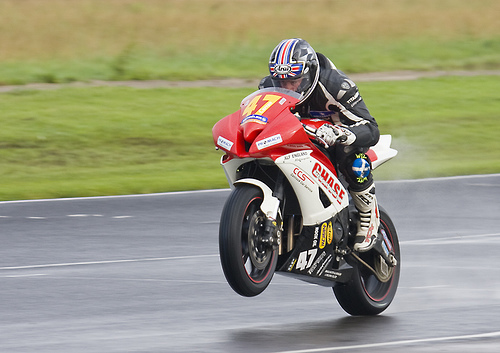helmet: (263, 34, 327, 96)
